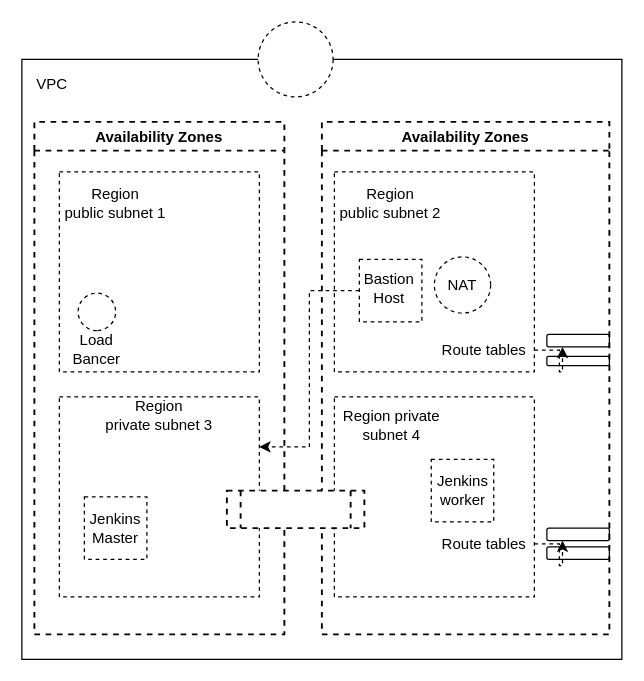
Some shapes in this 644 by 681 pixel diagram are drawn without their labels. Here are the shapes that lost their labels. From the top down, the centre of each, then its label:
[295,59]: Internet Gateway
[295,508]: Auto scaling
